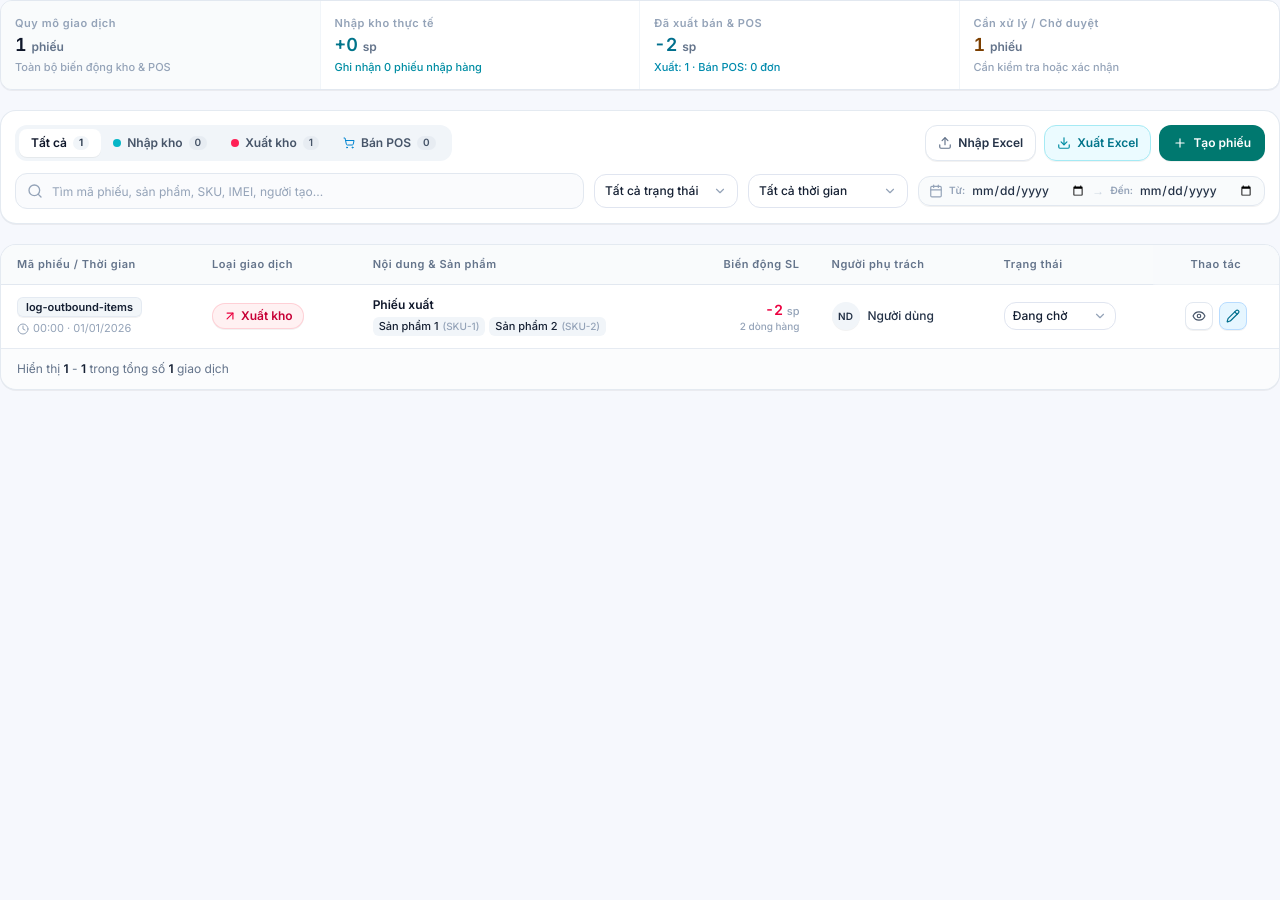
Test: StockLogPanel › hiển thị hàng xuất theo từng SKU và IMEI trong bảng chi tiết
Click the button named "Xem chi tiết" at (1199, 316), box 1185,302 -> 1213,330
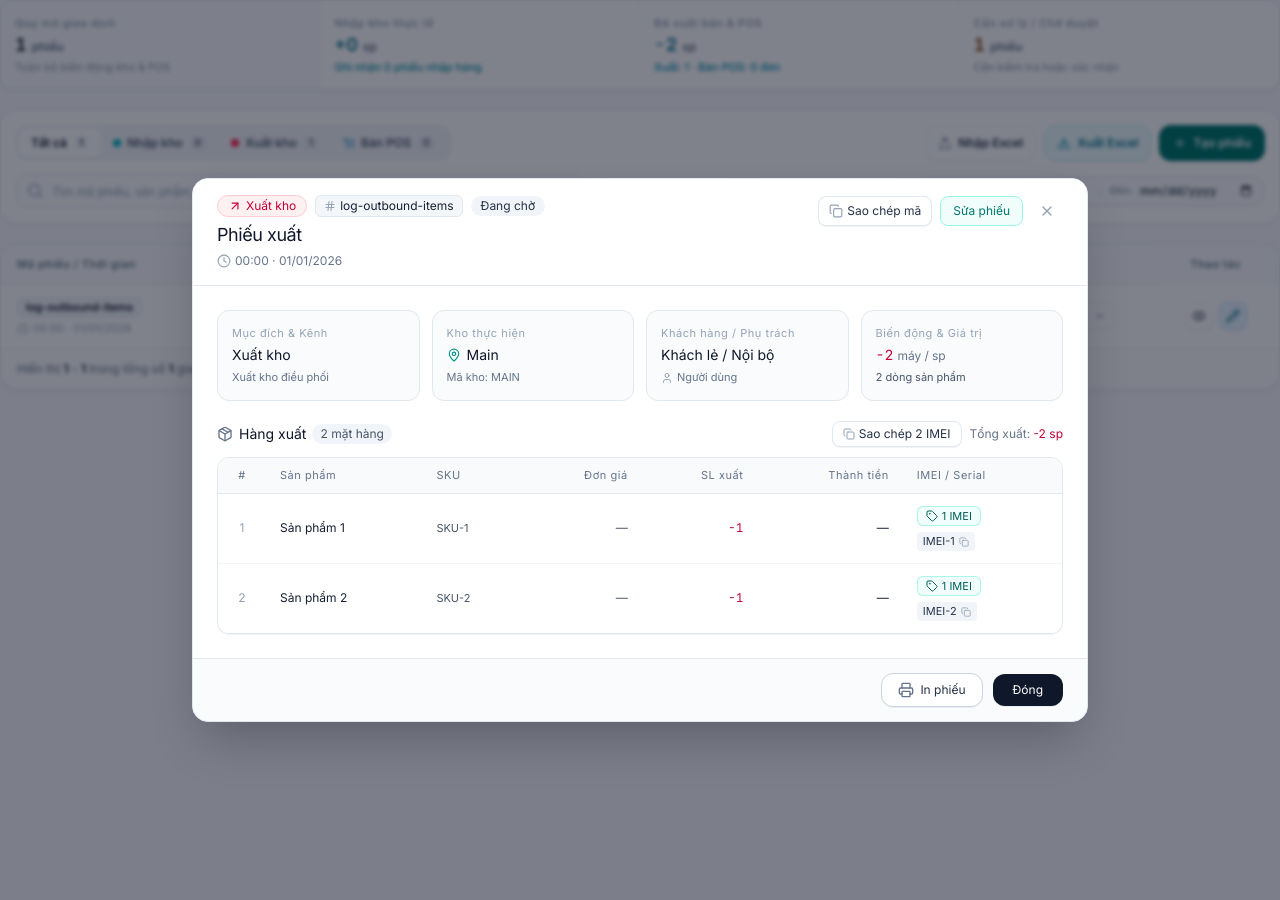
Result: the text "Hàng xuất" is shown at 239,424 -> 306,444
Result: the column heading "SKU" is shown at 422,458 -> 524,493
Result: the column heading "IMEI / Serial" is shown at 903,458 -> 1062,493
